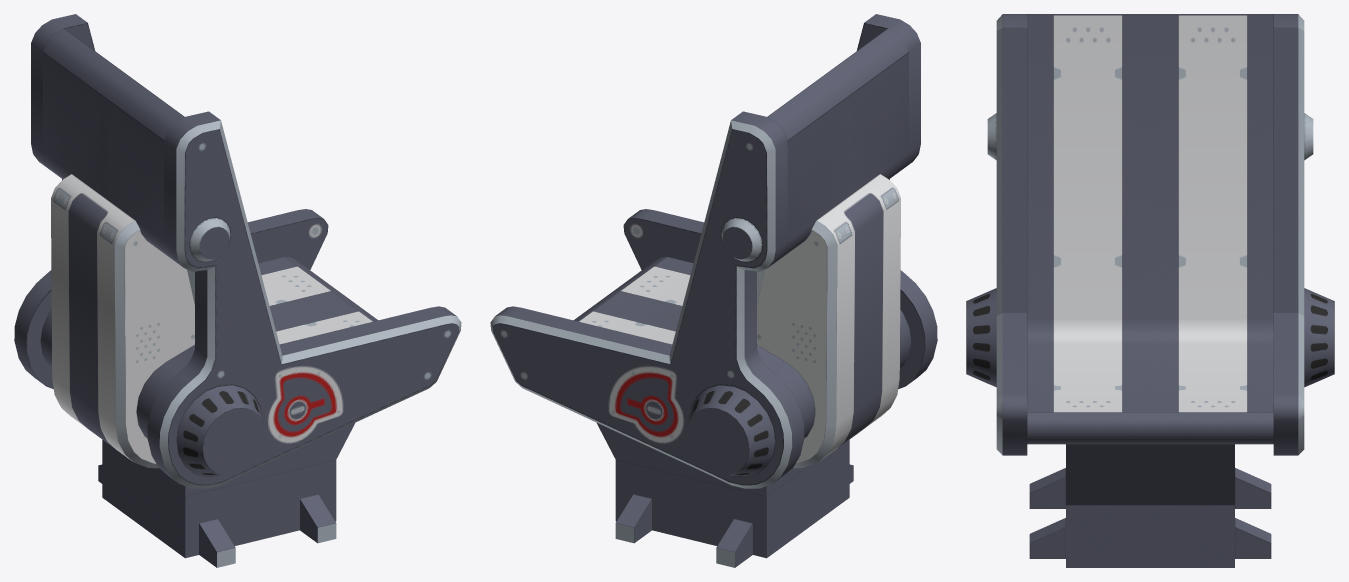
Rendered from Chair_03.FBX.
The picture shows the model from 3 angles, left to right: view 1: azimuth 30°, elevation 25°; view 2: azimuth 150°, elevation 25°; view 3: azimuth 270°, elevation 25°; orthographic projection.
Parts seen in each view (by area): view 1: Chair_03; view 2: Chair_03; view 3: Chair_03.
Boxes of the visible parts, x1=… form: Chair_03: x1=14, y1=14, x2=461, y2=567; Chair_03: x1=490, y1=14, x2=937, y2=567; Chair_03: x1=966, y1=14, x2=1334, y2=567.
Size of the model in its own units: 1.01 by 1.45 by 1.04.
